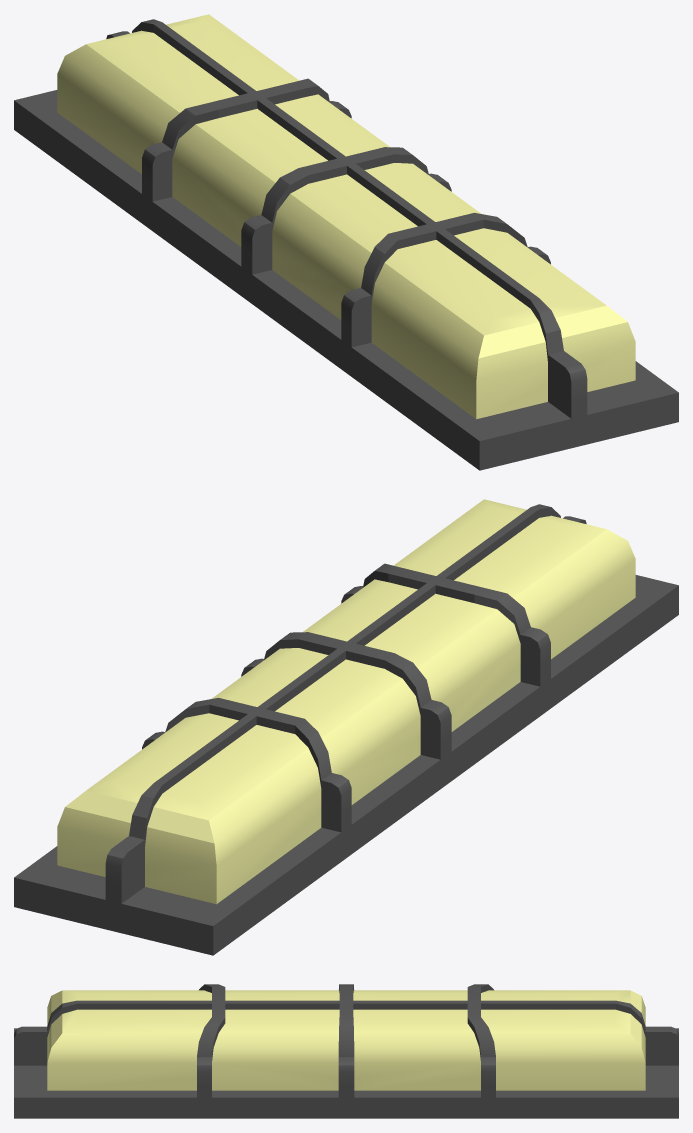
The model's file is GAME JAM LIGHT V1.fbx.
3 views of the same model, one above another, from view 1: azimuth 30°, elevation 25°; view 2: azimuth 150°, elevation 25°; view 3: azimuth 270°, elevation 25° (orthographic). The views are drawn at different scales.
Parts seen in each view (by area): view 1: pCube76; view 2: pCube76; view 3: pCube76.
Boxes of the visible parts, <box> form: pCube76: <box>14,14,678,470</box>; pCube76: <box>14,499,678,955</box>; pCube76: <box>14,984,678,1118</box>.
Size of the model in its own units: 1 by 0.5503 by 4.05.
